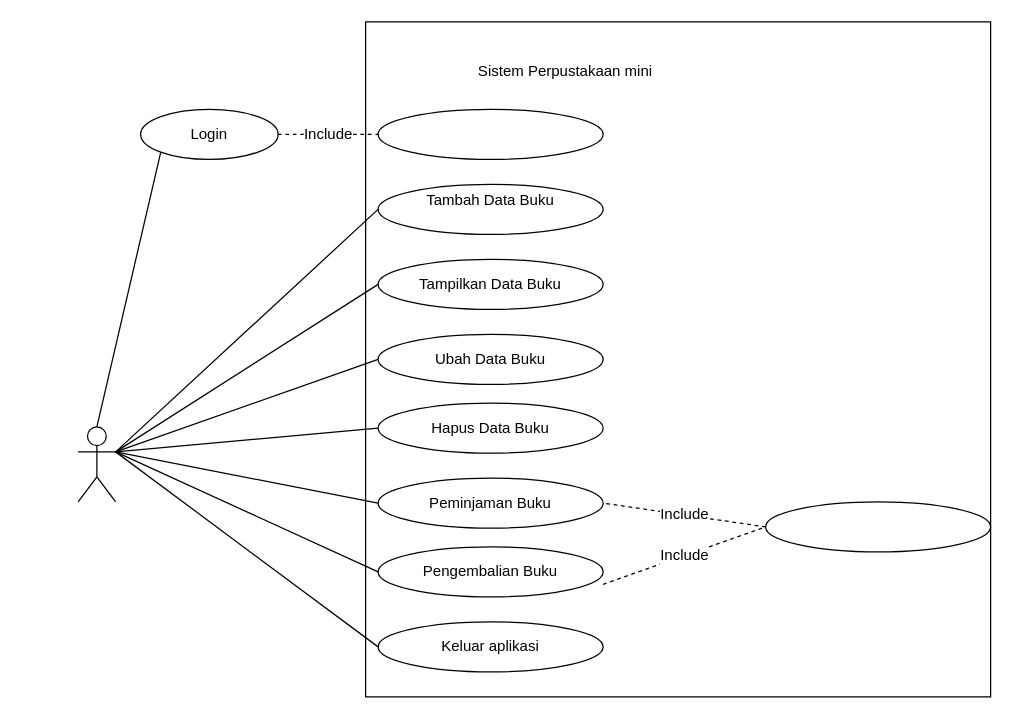
The diagram is 1013 pixels wide and 719 high, and some of its shapes have lost their labels. Each missing label, with the box of its shape:
Akses Menu Utama: (377, 108, 603, 159)
Petugas perpustakaan: (77, 426, 116, 502)
Validasi Status Buku: (764, 501, 991, 552)
